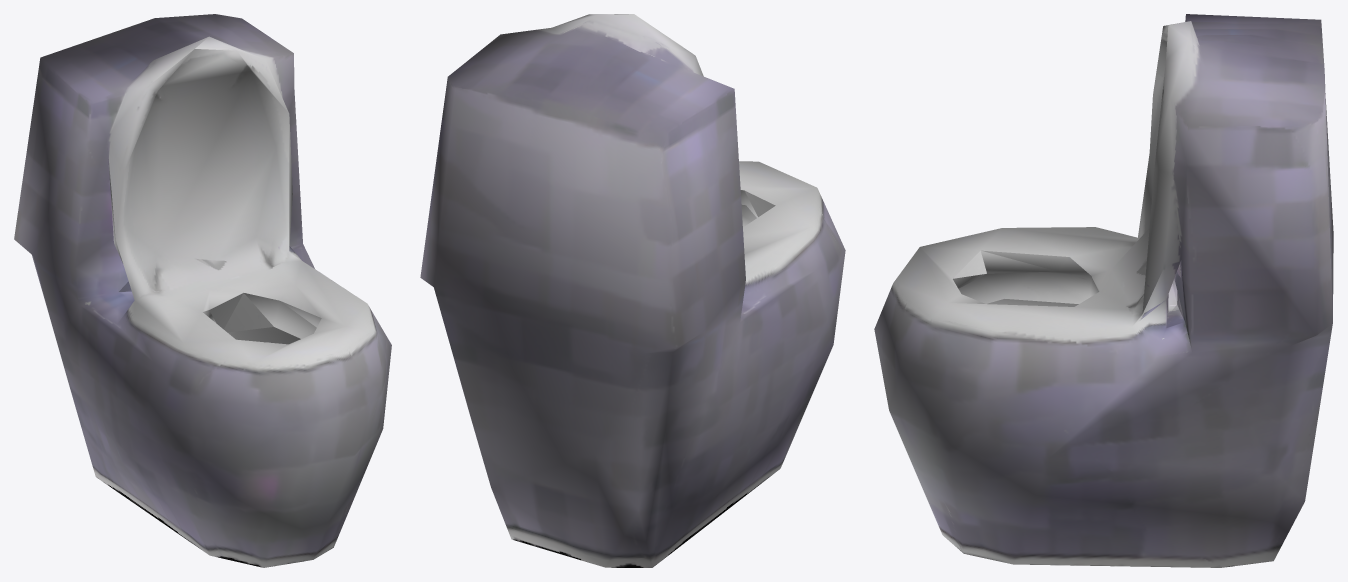
The model's file is disco-glam-toilet.glb.
3 views of the same model, side by side, from view 1: azimuth 30°, elevation 25°; view 2: azimuth 150°, elevation 25°; view 3: azimuth 270°, elevation 25° (orthographic). The views are drawn at different scales.
Visible parts, largest first — view 1: geometry_0.001; view 2: geometry_0.001; view 3: geometry_0.001.
Part boxes in pixels (x1,y1,x2,y2): geometry_0.001: [14, 14, 391, 567]; geometry_0.001: [420, 14, 845, 567]; geometry_0.001: [874, 14, 1333, 567].
Size of the model in its own units: 0.5458 by 0.9917 by 0.8228.
Materials: 1 (1 with a texture image).
